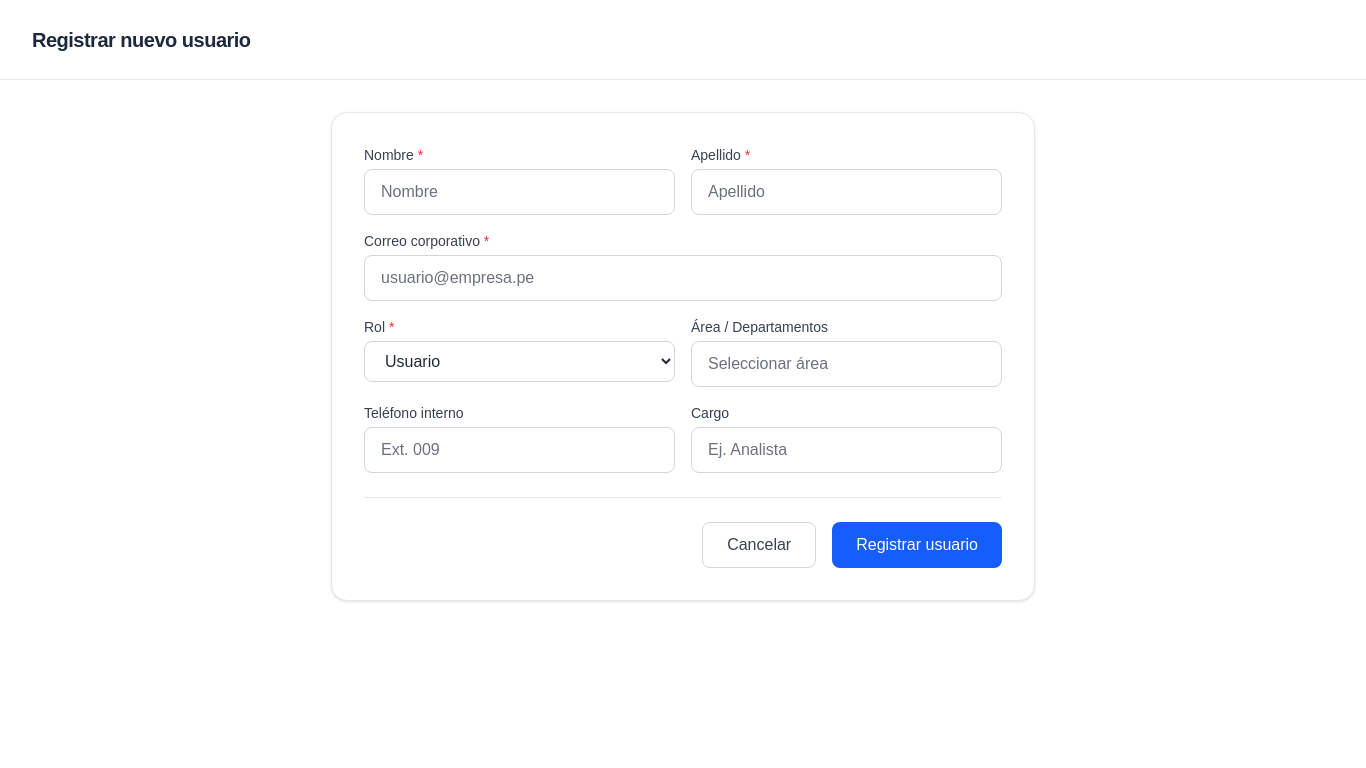
RegisterUserPage (Formulario de Registro) › debe mostrar mensaje de alerta en la UI si el correo ya está duplicado
The width and height of the screenshot is (1366, 768).
In the field with placeholder "Nombre": (520, 192) [364,169,675,215], type "Jose"
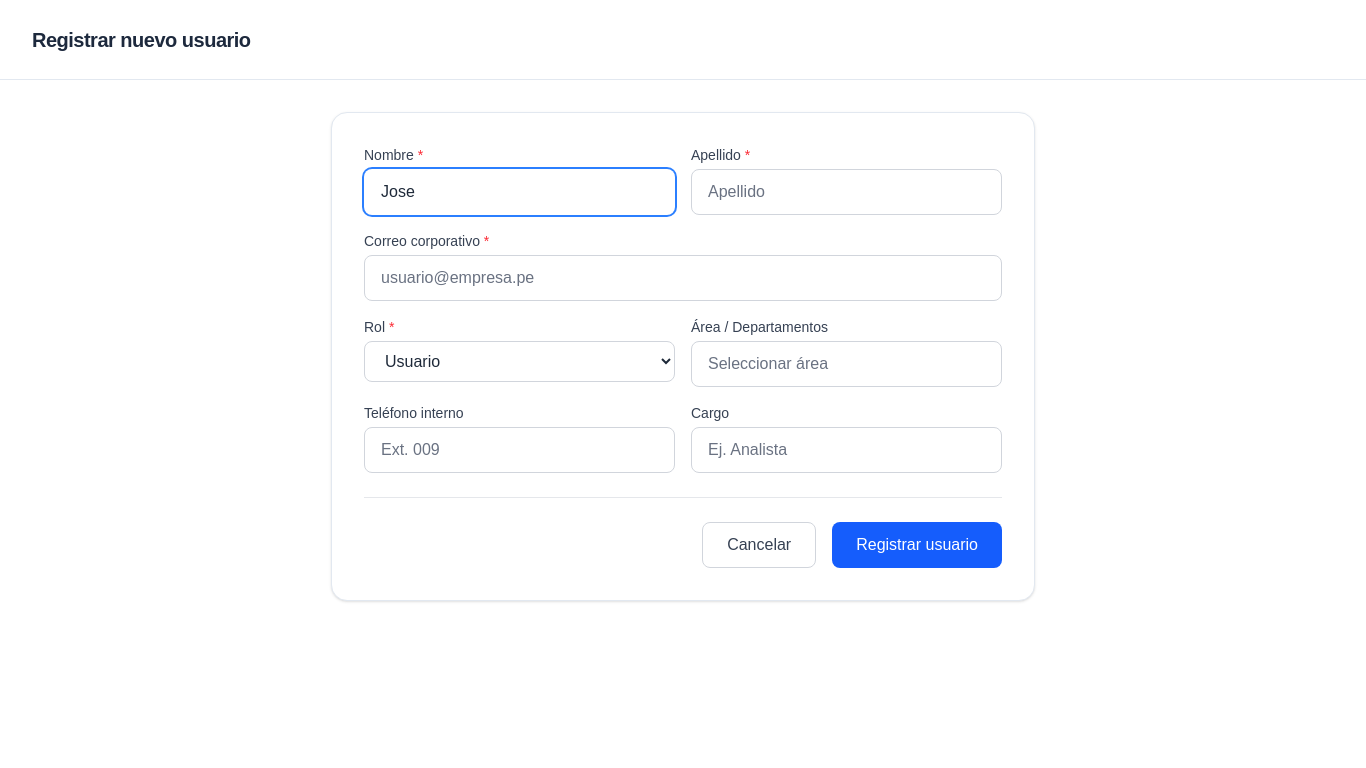
In the field with placeholder "Apellido": (846, 192) [691,169,1002,215], type "Perez"
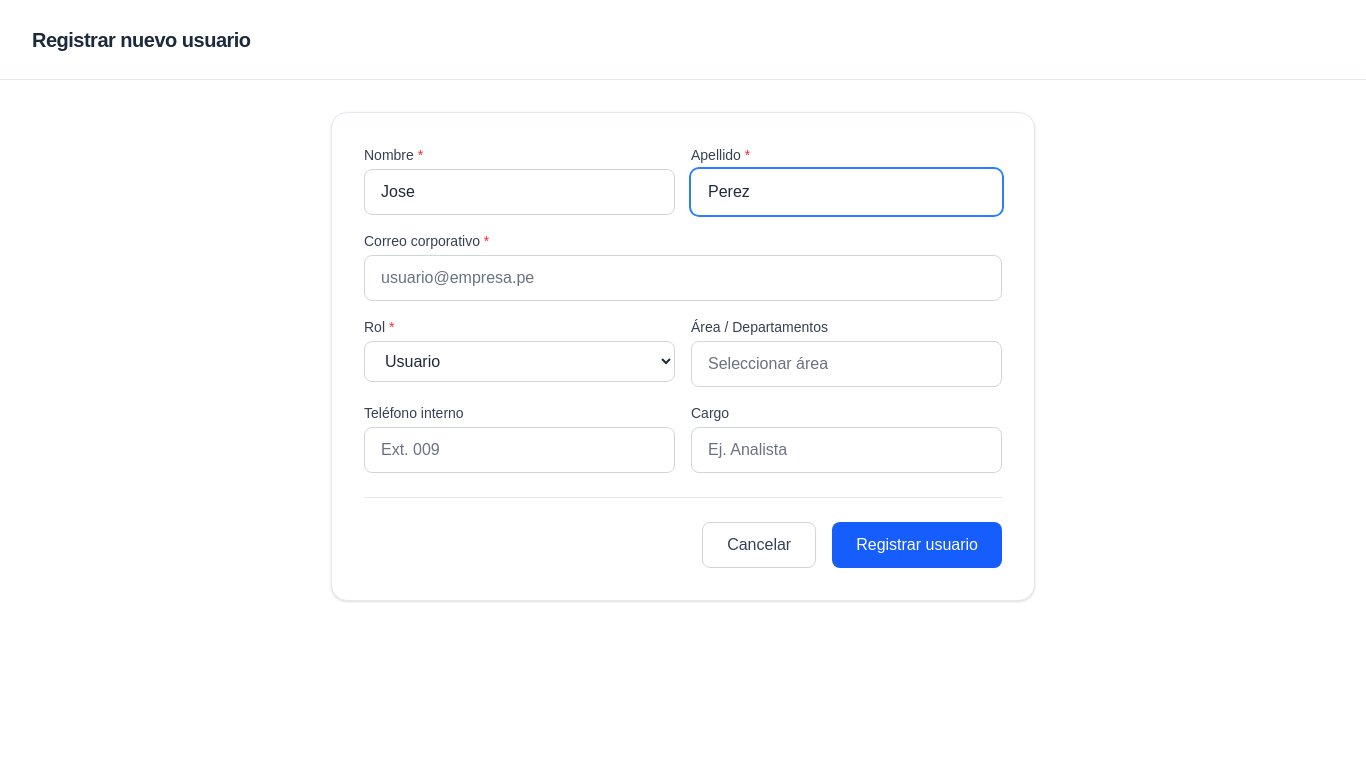
In the field with placeholder "usuario@empresa.pe": (683, 278) [364,255,1002,301], type "jose.perez@empresa.pe"
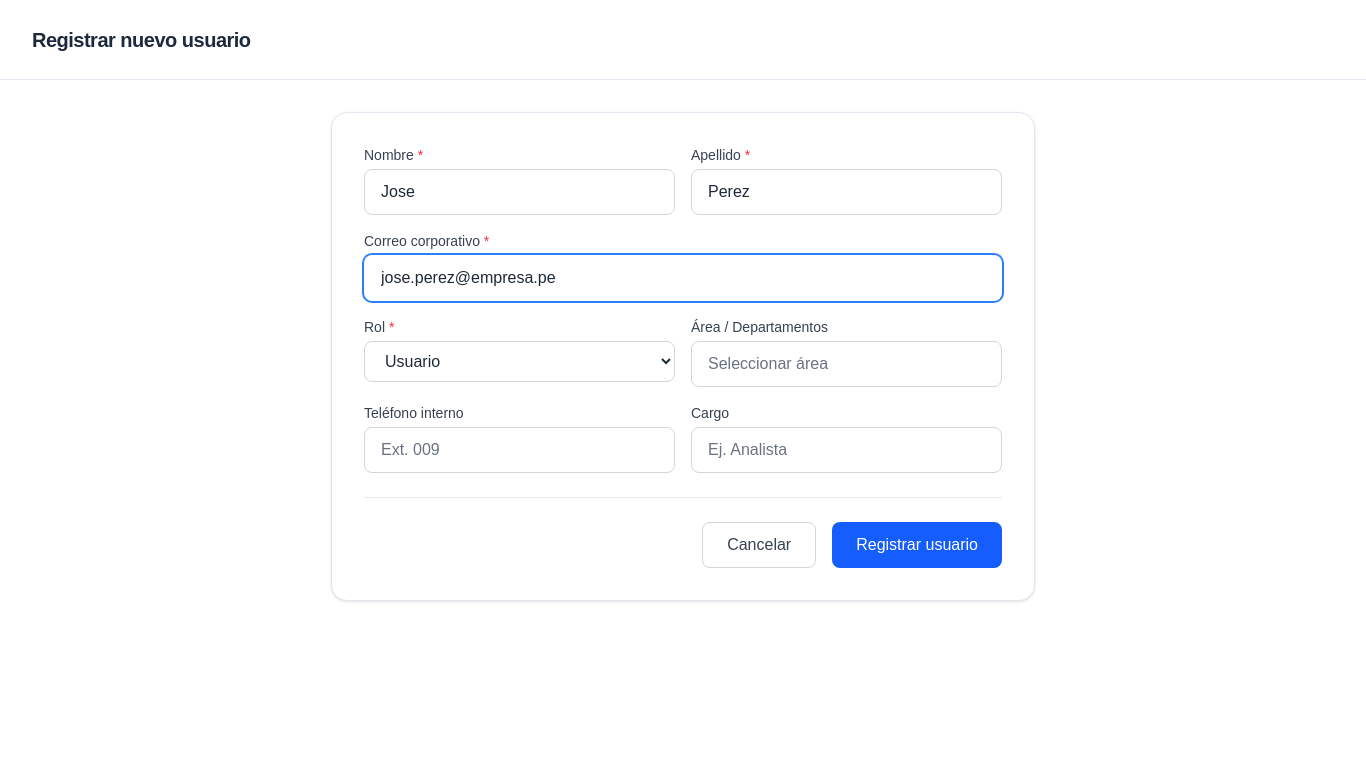
Click the button "Registrar usuario": click(917, 545) [832,522,1002,568]
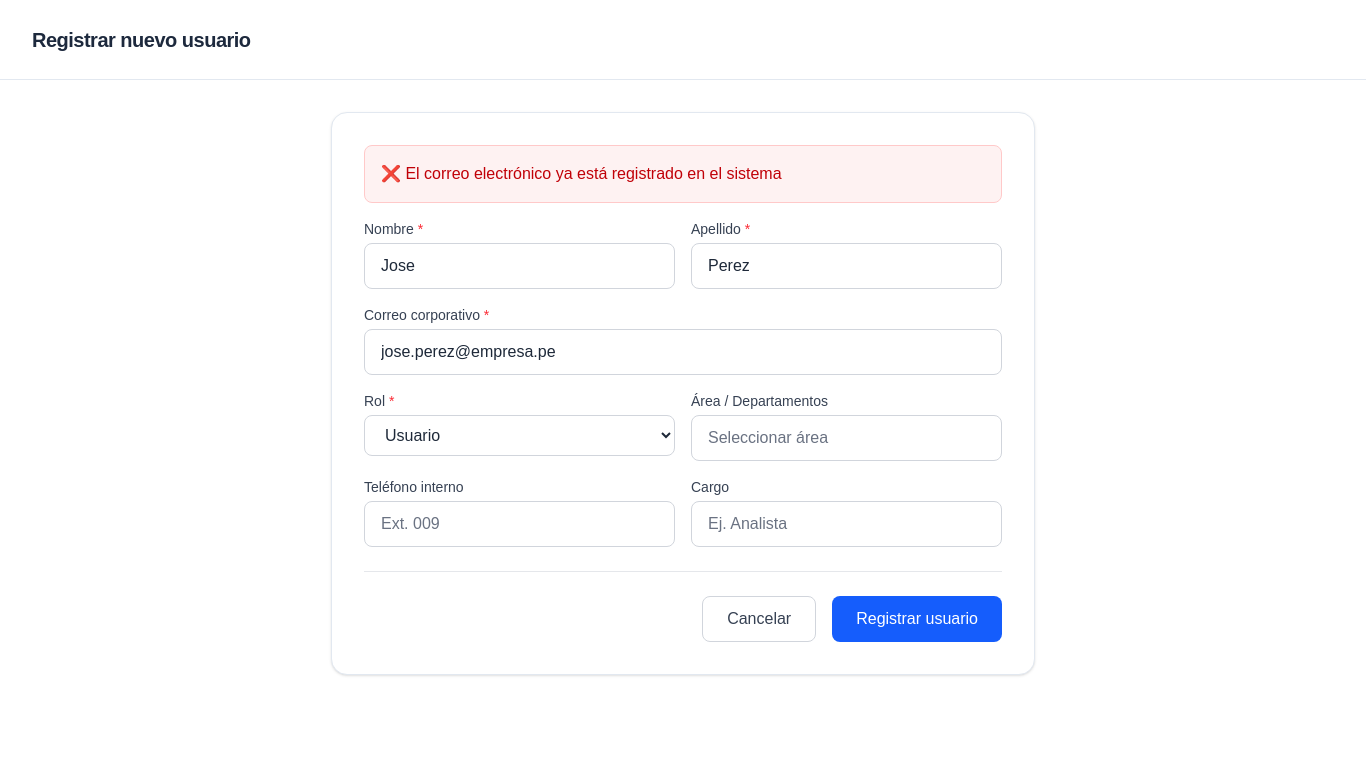
Check: the text "❌ El correo electrónico ya está registrado en el sistema" is shown, box [364,145,1002,203]
